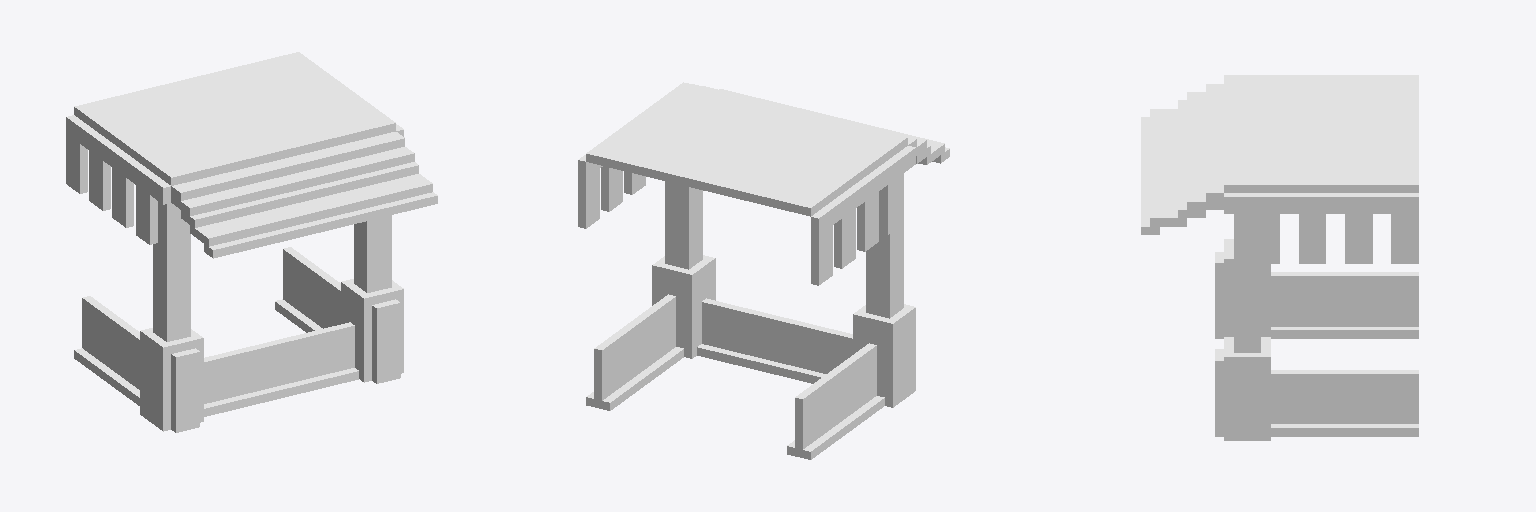
Rendered from railway_tea_shop_01.obj.
The picture shows the model from 3 angles: view 1: azimuth 30°, elevation 25°; view 2: azimuth 150°, elevation 25°; view 3: azimuth 270°, elevation 25°; orthographic projection.
Visible parts, largest first — view 1: object 1; view 2: object 1; view 3: object 1.
Part boxes in pixels (x1,y1,x2,y2): object 1: (66, 52, 437, 432); object 1: (578, 82, 949, 459); object 1: (1141, 75, 1418, 440).
Bounding box in the file's own units: 3 × 3 × 3.